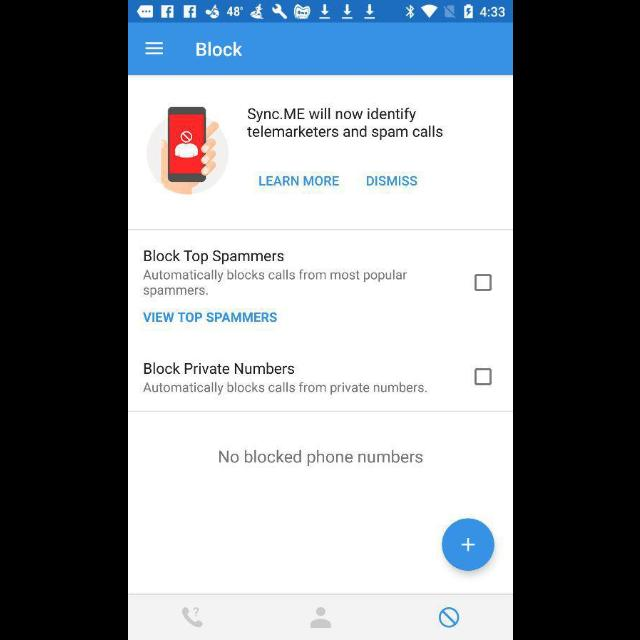button: (440, 518, 494, 572)
checkbox: (474, 368, 492, 386), (473, 274, 491, 292)
icon: (310, 606, 332, 628), (181, 606, 203, 628), (438, 607, 458, 629), (144, 42, 164, 56)
image: (146, 108, 228, 196)
text: (142, 270, 408, 298), (247, 108, 443, 142), (142, 381, 426, 395), (218, 449, 422, 466), (144, 250, 284, 266), (143, 362, 294, 374), (142, 312, 276, 324), (258, 176, 338, 187), (195, 42, 242, 58), (366, 176, 416, 187)
toolbar: (128, 23, 512, 75)
uppertaskbar: (128, 1, 512, 23)
